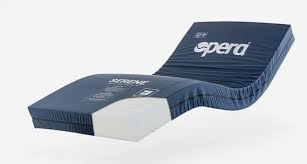bed-matress: (28, 21, 295, 142)
